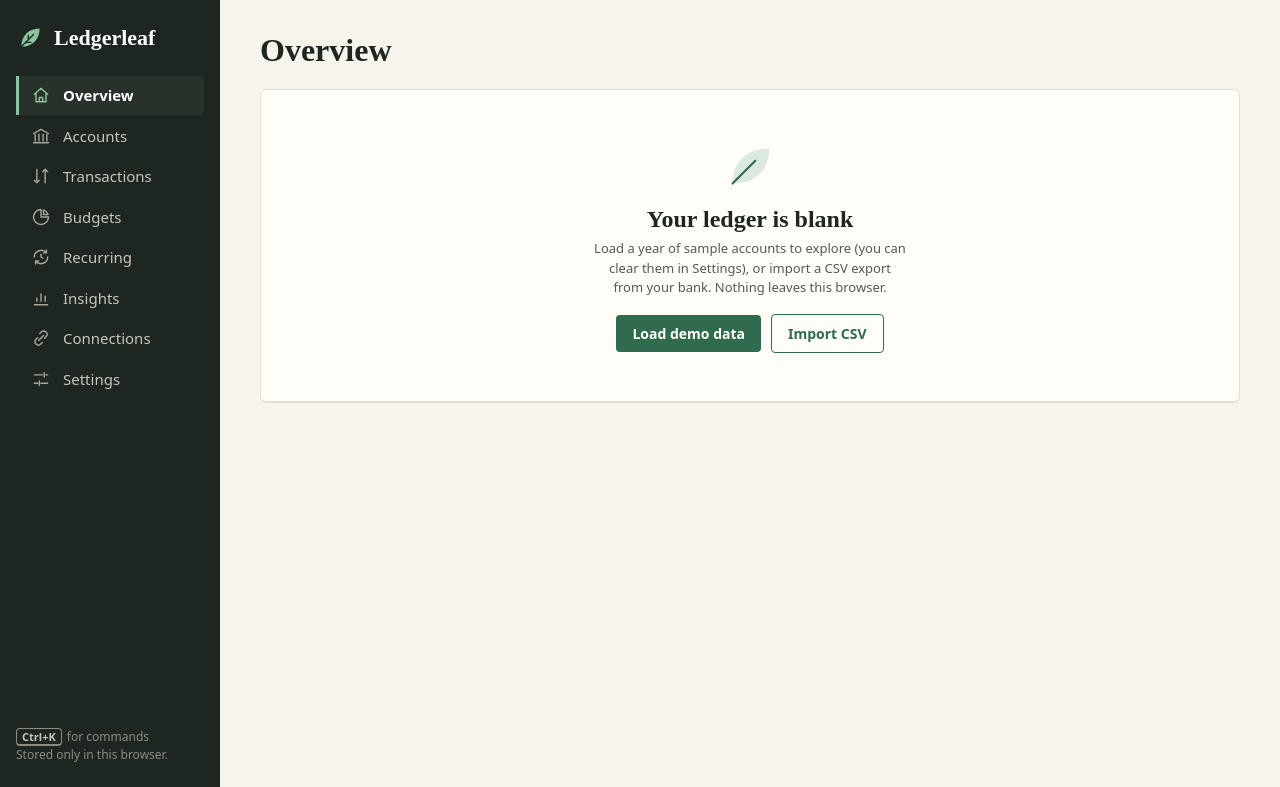
it: command palette › runs a command when clicked
Type keys "{Control>}k{/Control}"
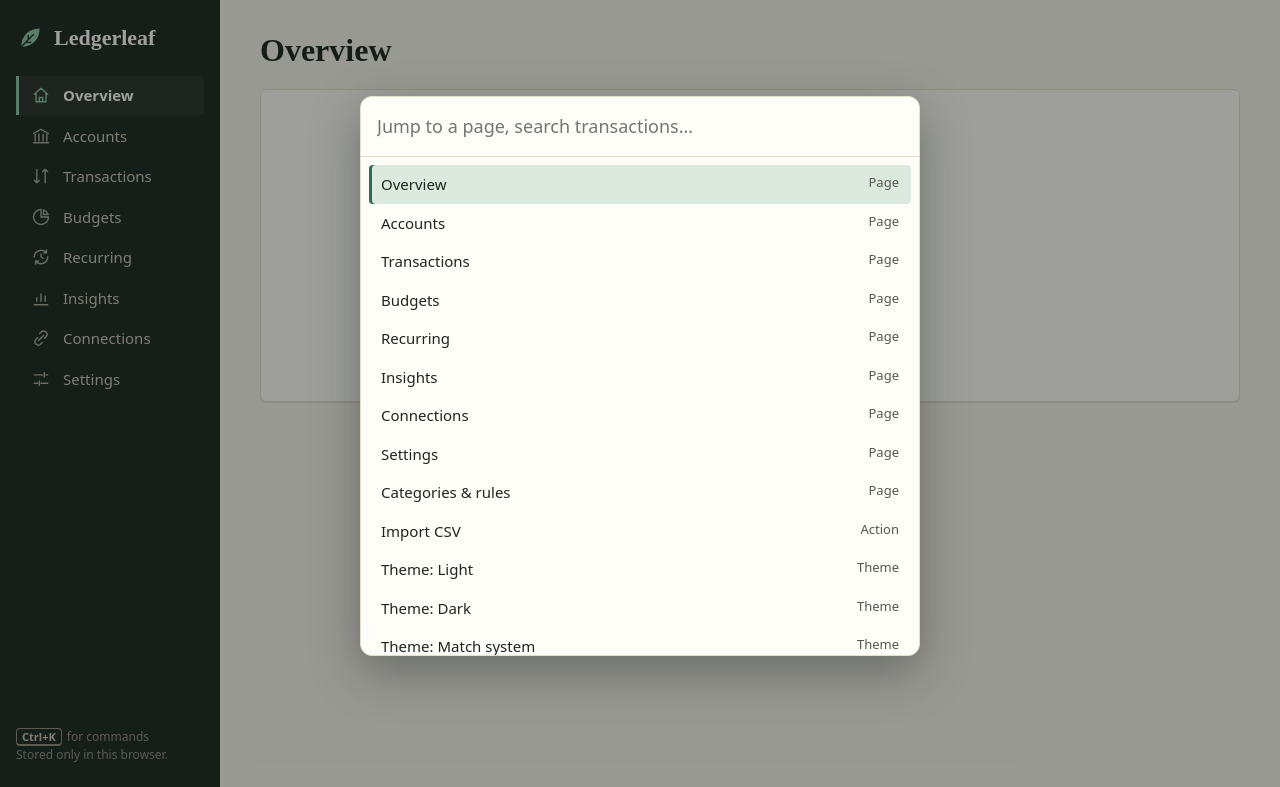
Click the option "Categories & rules Page" at (446, 492), box left=381, top=481, right=899, bottom=502
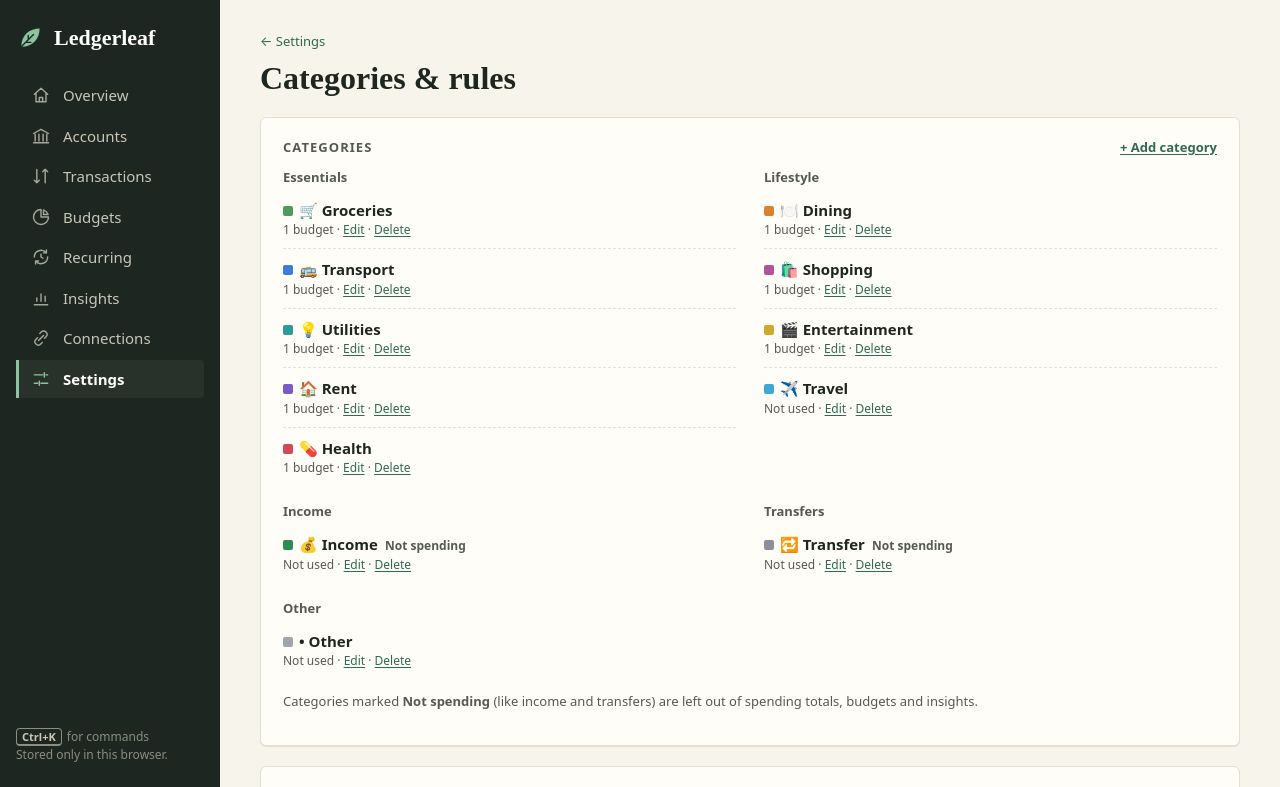
Now the dialog "Command palette" is gone
